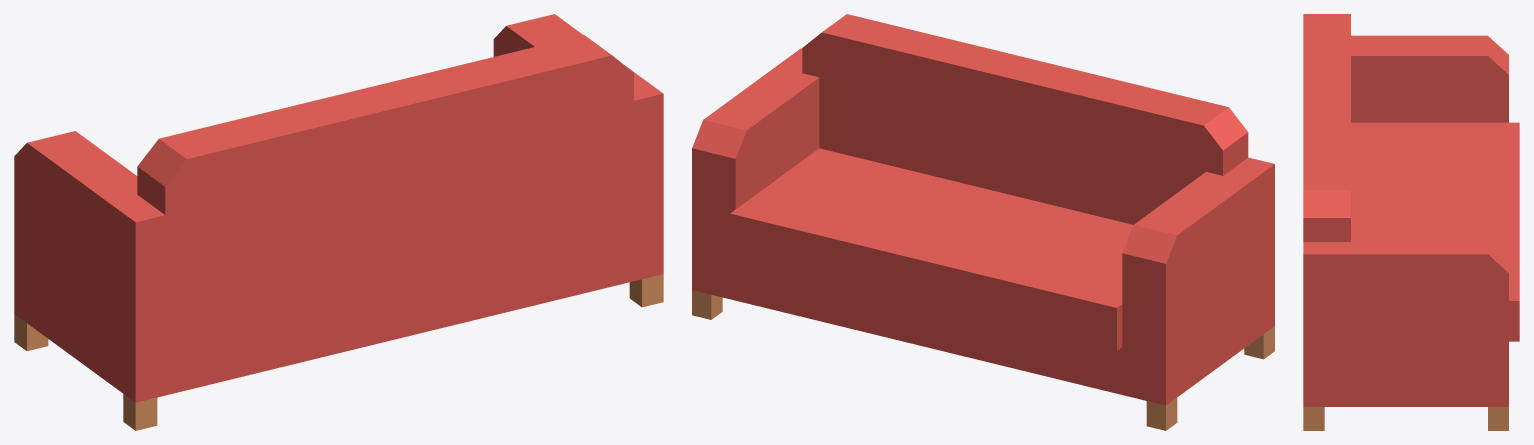
The model's file is loungesofa.gltf.
The picture shows the model from 3 angles, left to right: view 1: azimuth 30°, elevation 25°; view 2: azimuth 150°, elevation 25°; view 3: azimuth 270°, elevation 25°; orthographic projection. The views are drawn at different scales.
Parts seen in each view (by area): view 1: loungesofa; view 2: loungesofa; view 3: loungesofa.
Part boxes in pixels (x1,y1,x2,y2): loungesofa: (14,14,663,430); loungesofa: (692,14,1274,430); loungesofa: (1303,14,1519,430).
Size of the model in its own units: 0.98 by 0.46 by 0.41.
Materials: 1 (1 with a texture image).
